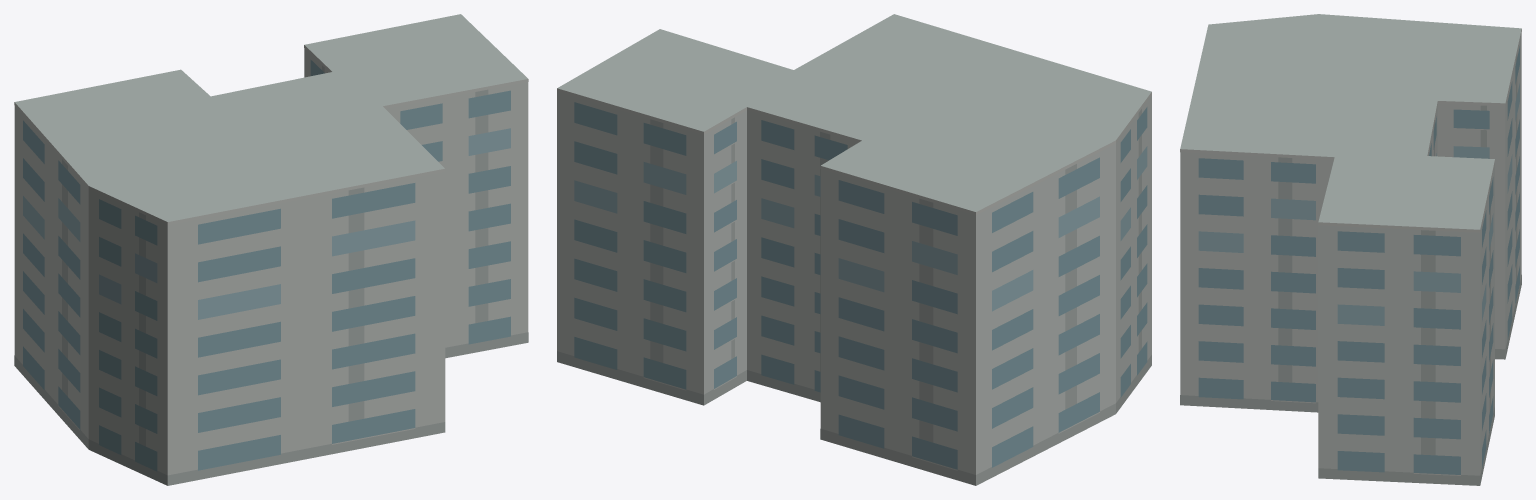
File: survey-upis-32566626.glb
The picture shows the model from 3 angles, left to right: view 1: azimuth 30°, elevation 25°; view 2: azimuth 150°, elevation 25°; view 3: azimuth 270°, elevation 25°; orthographic projection. The views are drawn at different scales.
Visible parts, largest first — view 1: survey-upis-32566626.tmp; view 2: survey-upis-32566626.tmp; view 3: survey-upis-32566626.tmp.
Boxes of the visible parts, x1,y1,x2,y2 form: survey-upis-32566626.tmp: (14, 14, 528, 485); survey-upis-32566626.tmp: (557, 14, 1151, 485); survey-upis-32566626.tmp: (1180, 14, 1521, 485).
Size of the model in its own units: 36.5 by 20.2 by 24.43.
